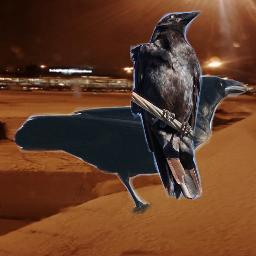Crow: (13, 75, 248, 214), (130, 9, 203, 200)
